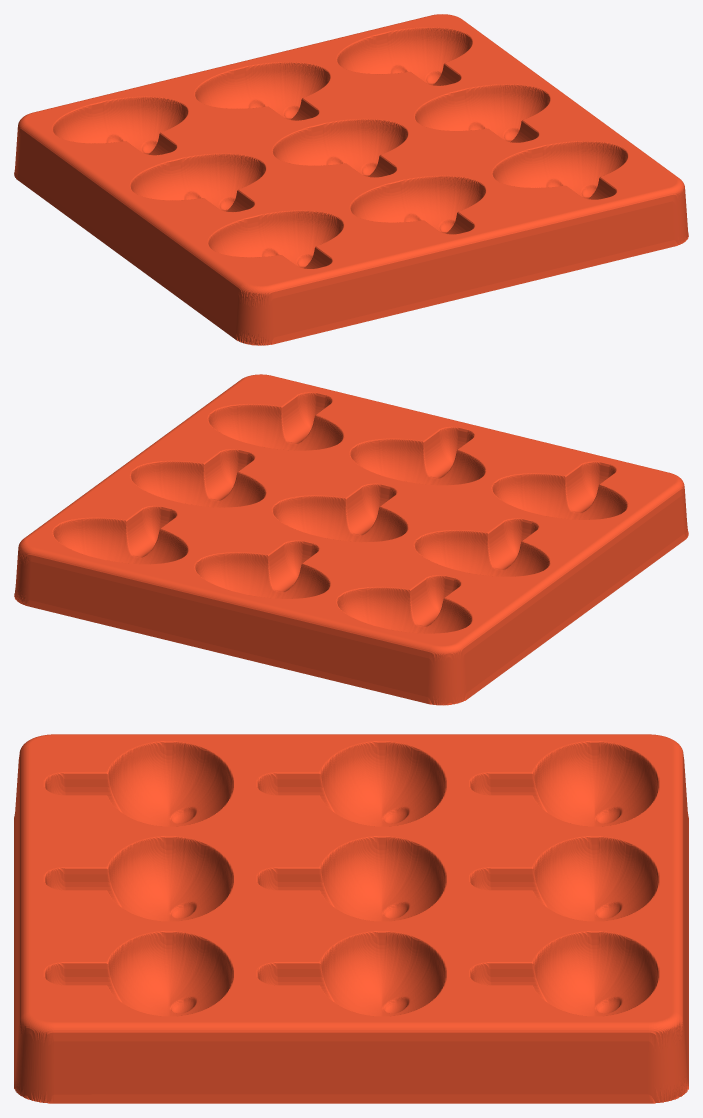
Rendered from mold.glb.
3 views of the same model, one above another, from view 1: azimuth 30°, elevation 25°; view 2: azimuth 150°, elevation 25°; view 3: azimuth 270°, elevation 25° (orthographic). The views are drawn at different scales.
Visible parts, largest first — view 1: geometry_0; view 2: geometry_0; view 3: geometry_0.
Part boxes in pixels (x1,y1,x2,y2): geometry_0: (14, 14, 688, 345); geometry_0: (14, 374, 688, 705); geometry_0: (14, 734, 688, 1103).
Size of the model in its own units: 0.1595 by 0.0185 by 0.1515.
